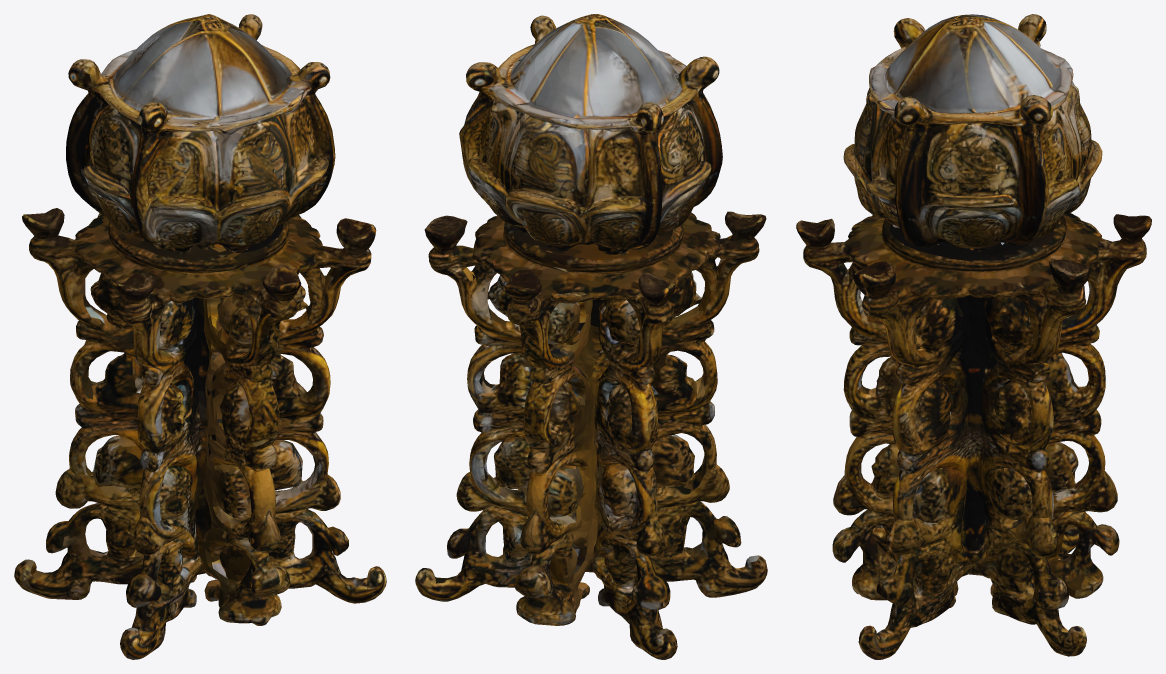
3 views of the same model, side by side, from view 1: azimuth 30°, elevation 25°; view 2: azimuth 150°, elevation 25°; view 3: azimuth 270°, elevation 25° (orthographic). The views are drawn at different scales.
Visible parts, largest first — view 1: textured_mesh; view 2: textured_mesh; view 3: textured_mesh.
Boxes of the visible parts, bbox=[...] form: textured_mesh: bbox=[14, 14, 386, 659]; textured_mesh: bbox=[415, 14, 767, 659]; textured_mesh: bbox=[796, 14, 1151, 659].
Bounding box in the file's own units: 0.9534 × 1.99 × 1.08.
1 material, 1 textured.
